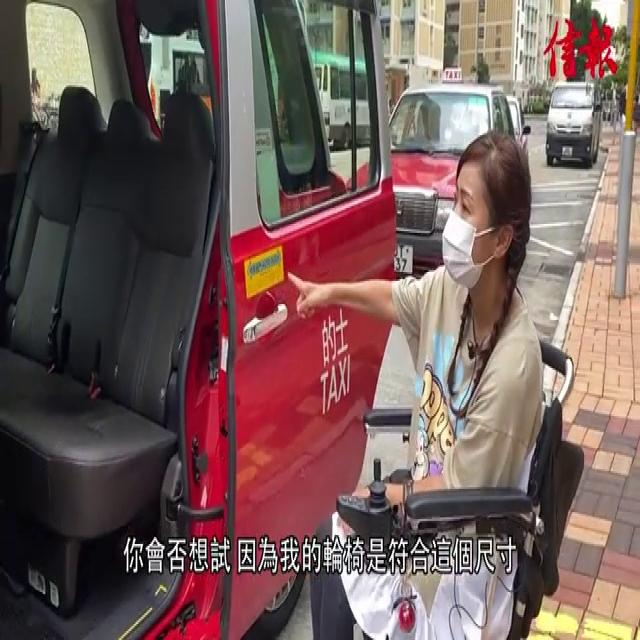wheelchairs: (321, 309, 594, 640)
